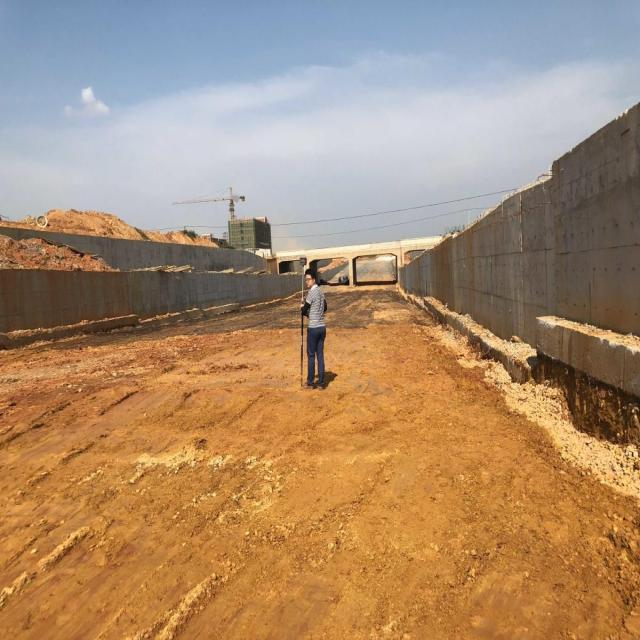crane: (170, 183, 250, 247)
